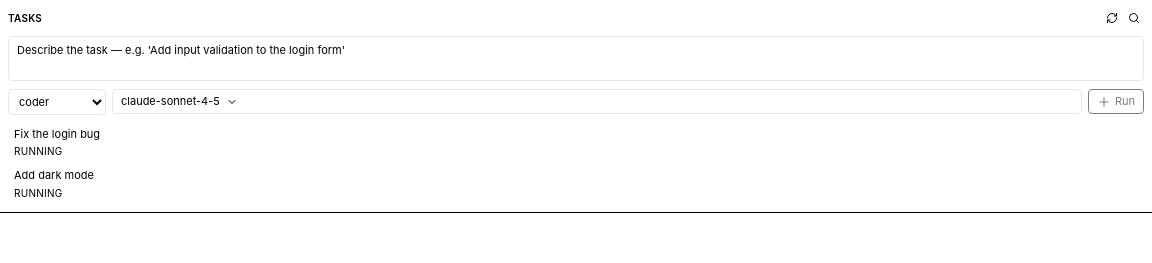
Test: AgentTaskList › filters the visible task list by description once the filter icon is toggled on
Click the button named "Filter tasks".
click(1134, 18)  # box [1124,8,1144,28]
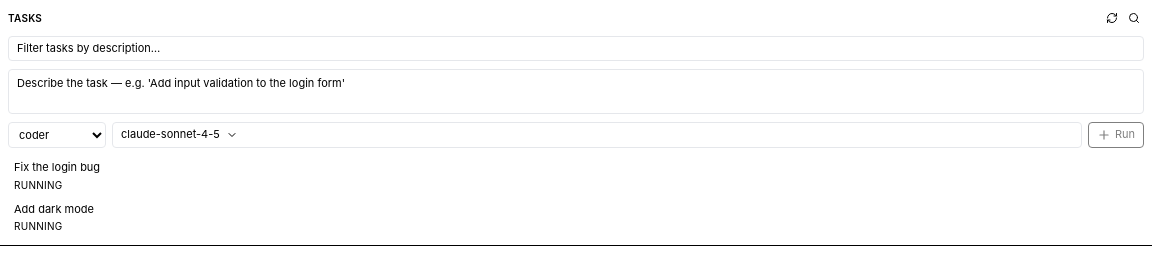
Type "login" into the field with placeholder "Filter tasks by description…".
click(576, 49); type("login")  # box [8,36,1144,61]
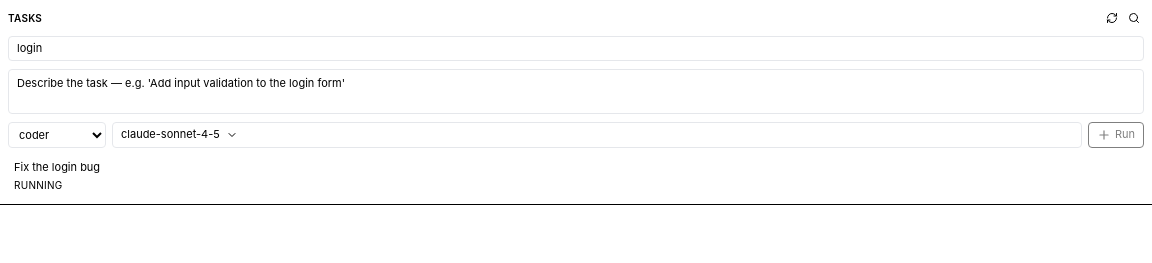
Expected: the text "Fix the login bug" is shown, [14,160,100,176]
Expected: the button "Add dark mode" is gone
